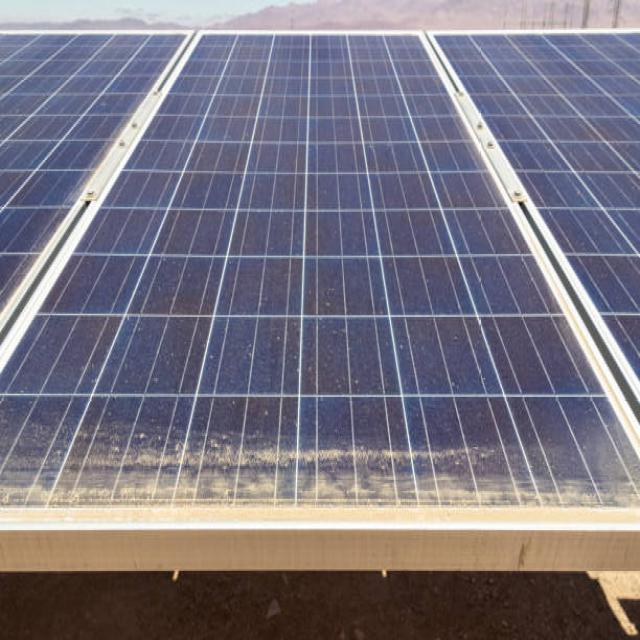no faulty: (0, 259, 640, 549)
